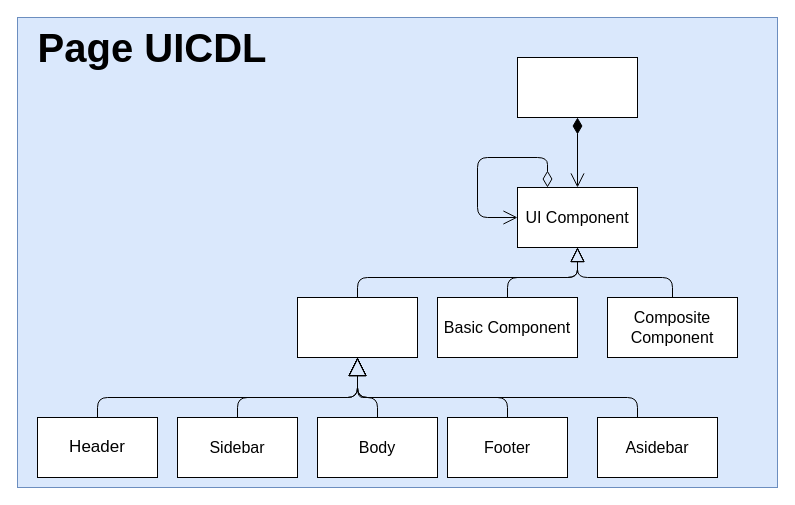
This 795x505 diagram has some shape labels left out. The shapes that lost their labels are listed below. From the top down, each one's box as (x1, y1, x2, y2) in pixels, then its label:
(516, 56, 638, 118): Page Component
(296, 296, 418, 358): Layout Component
